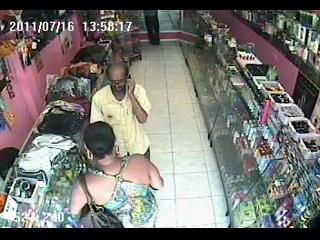Normal: (68, 122, 164, 226), (90, 62, 152, 161), (142, 10, 160, 46)
